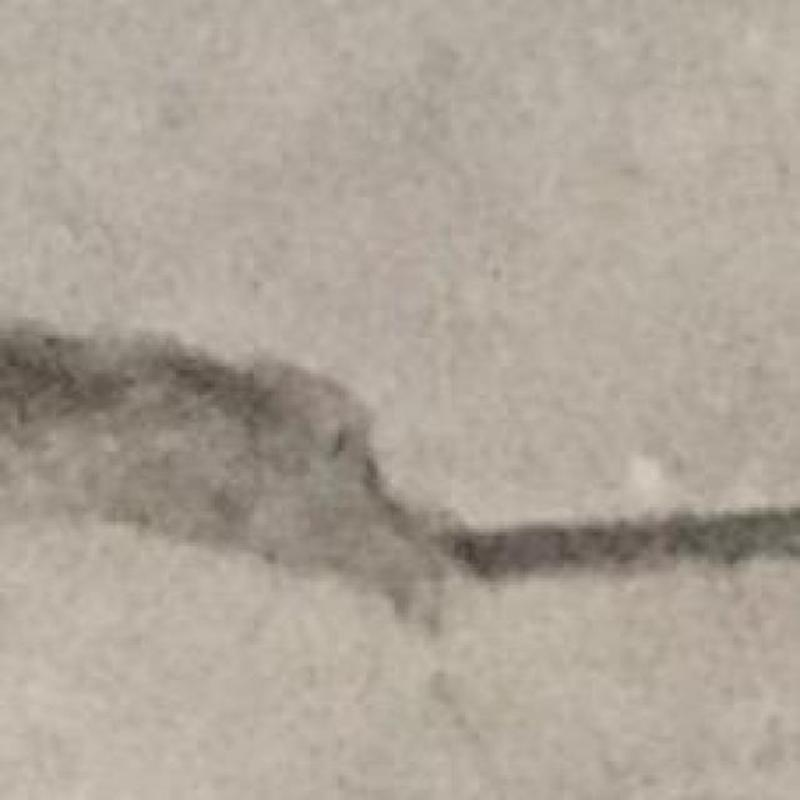crack: (0, 328, 799, 576)
